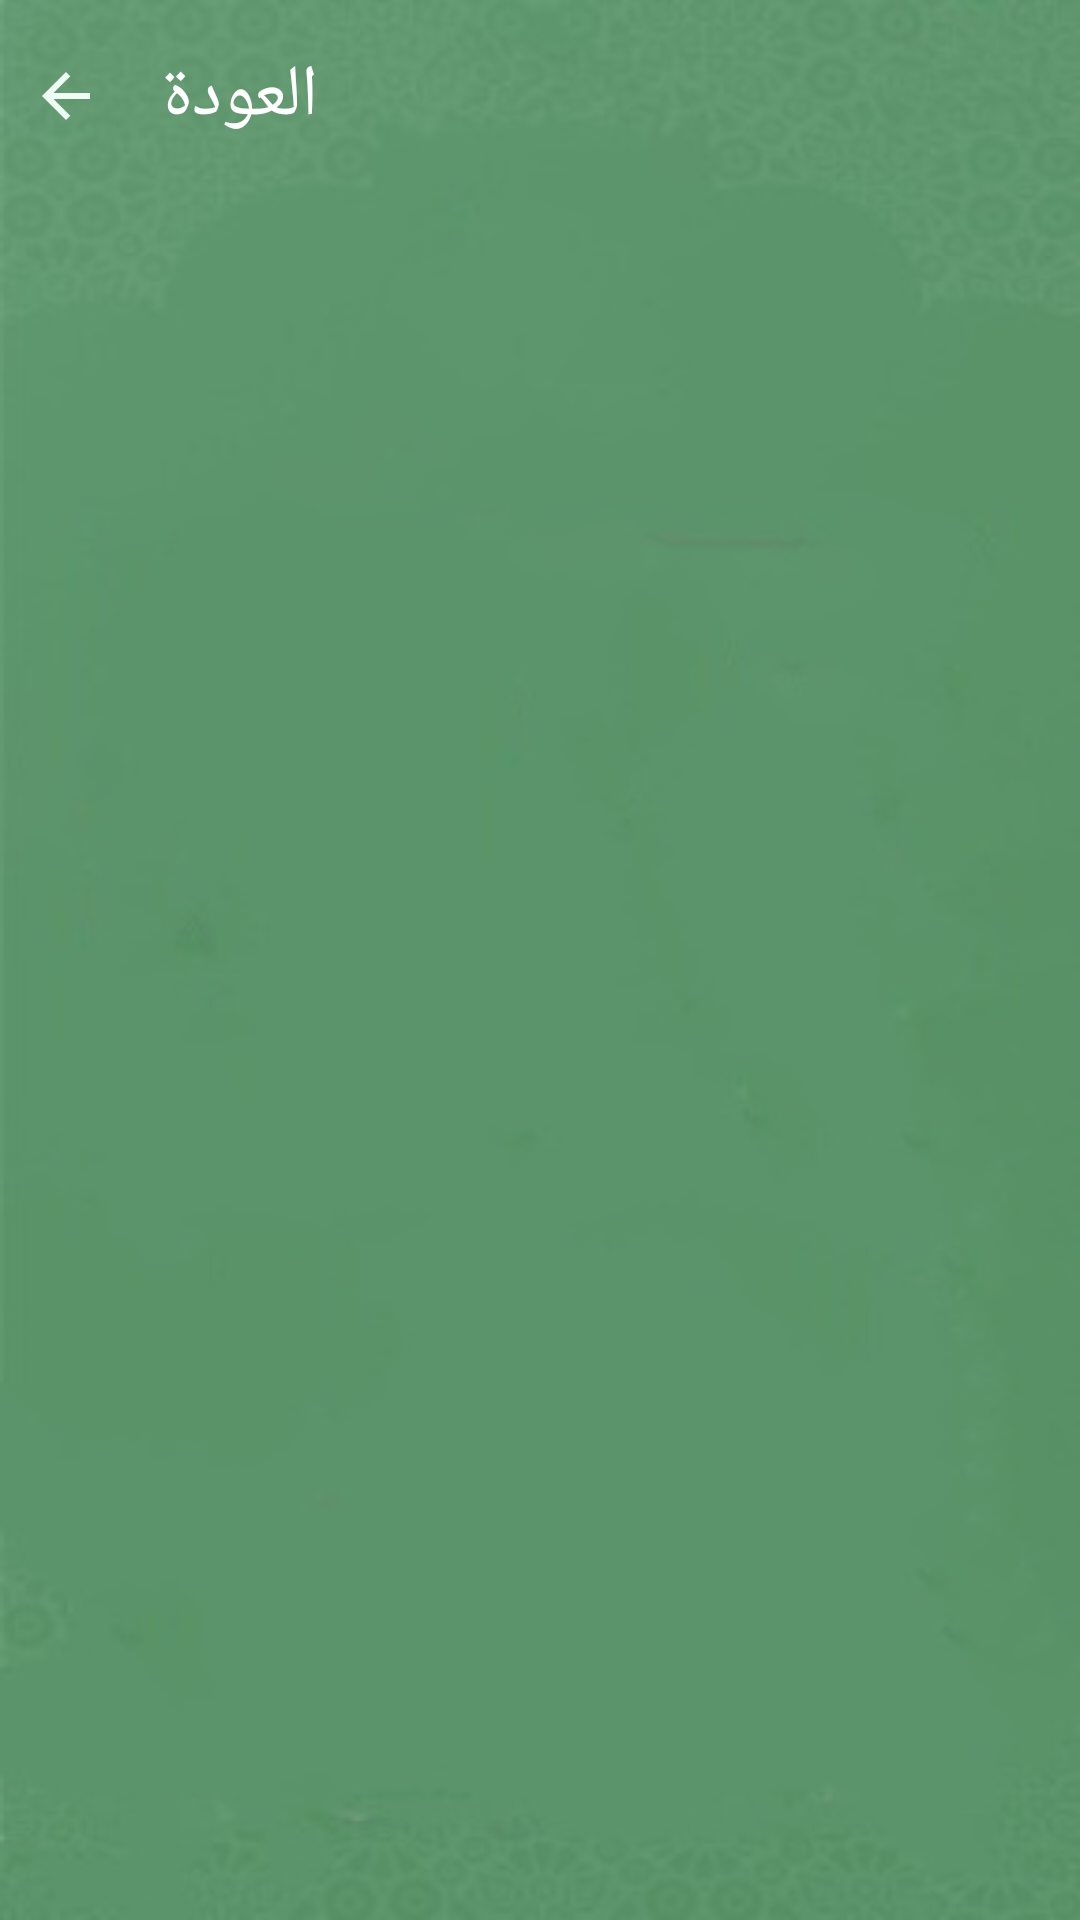

Icon click points for this 1080×1920 phone screenshot, format [x,y]:
arrow back: [66,96]
